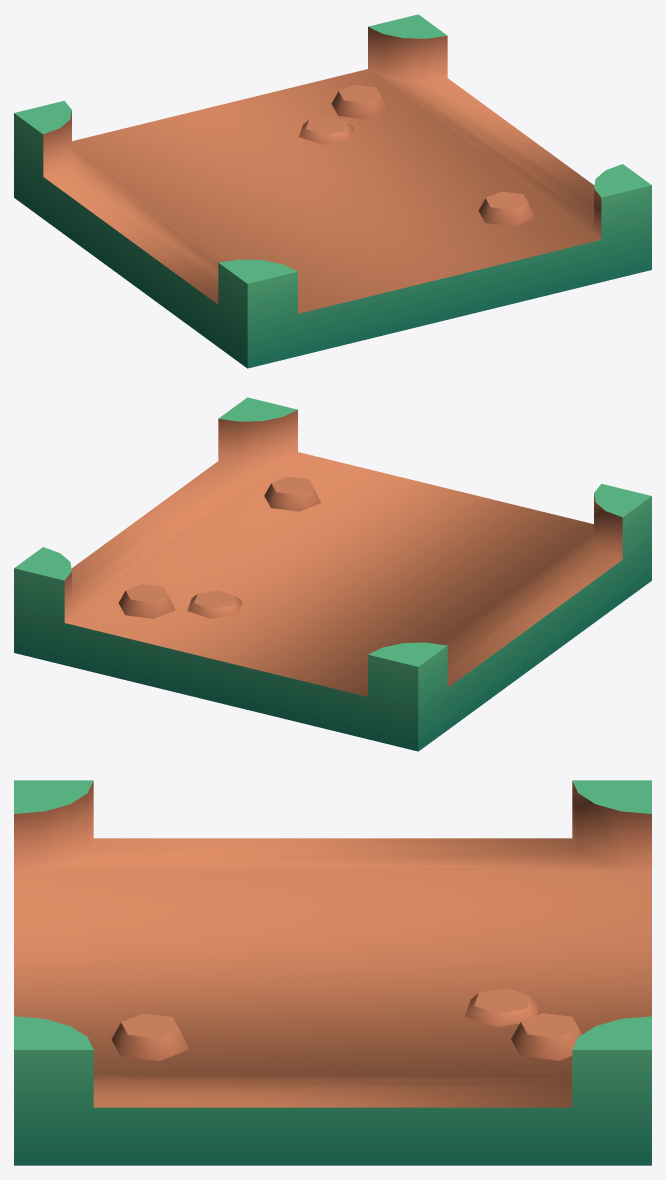
File: tile-crossing.glb
3 views of the same model, one above another, from view 1: azimuth 30°, elevation 25°; view 2: azimuth 150°, elevation 25°; view 3: azimuth 270°, elevation 25° (orthographic). The views are drawn at different scales.
Visible parts, largest first — view 1: tile-crossing; view 2: tile-crossing; view 3: tile-crossing.
Part boxes in pixels (left/top/right/bottom): tile-crossing: left=14, top=14, right=651, bottom=368; tile-crossing: left=14, top=397, right=651, bottom=751; tile-crossing: left=14, top=780, right=651, bottom=1165.
Bounding box in the file's own units: 1 × 0.2 × 1.
1 material, 1 textured.
